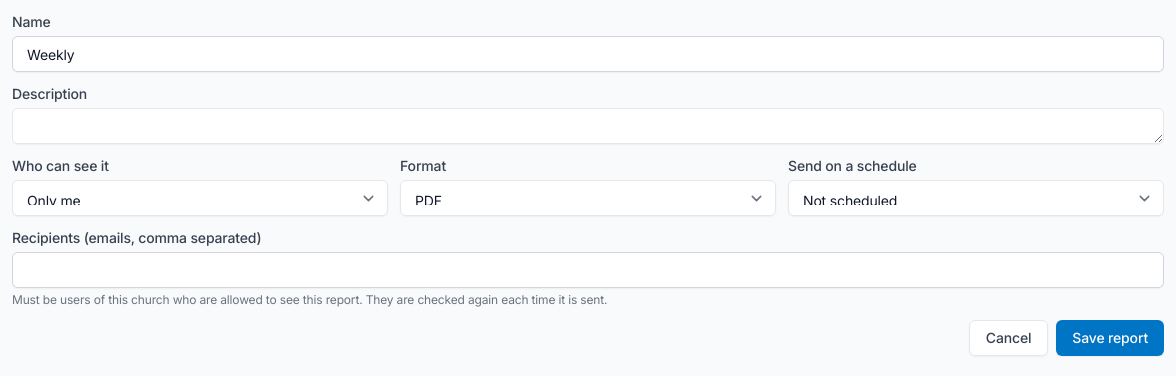
Scenario: save form › a scheduled report needs a recipient
Later steps or results of the test are not shown.
Select "Weekly" in the dropdown labelled "Send on a schedule" at [976, 198], box [788,180,1164,216]
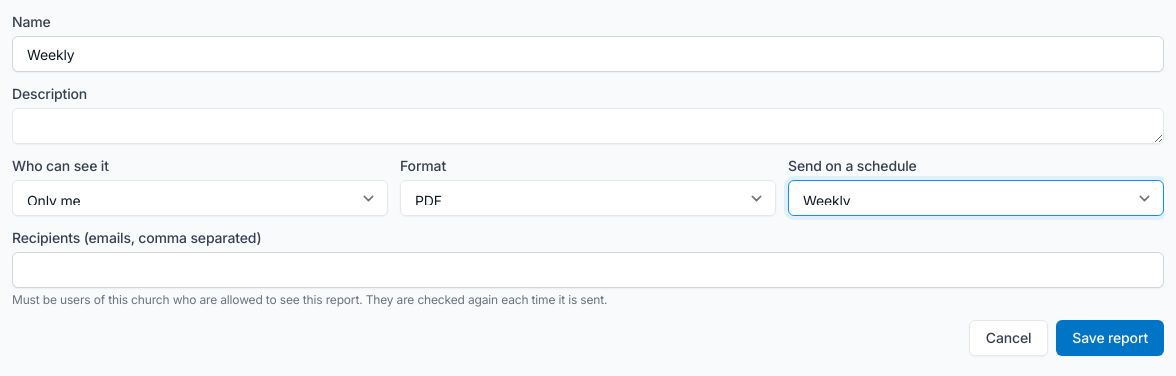
Click the button "Save report" at [1110, 338], box [1056,320,1164,356]
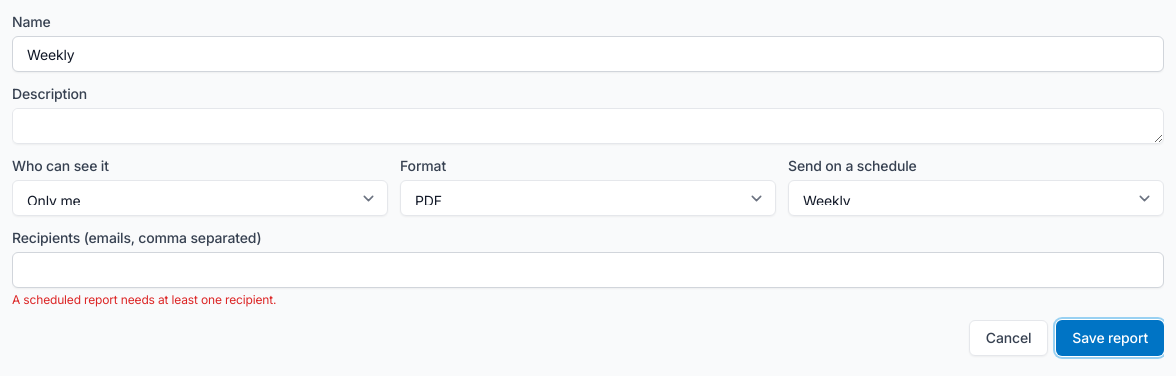
Expected: the text "A scheduled report needs at least one recipient." is shown, [12,292,276,307]
